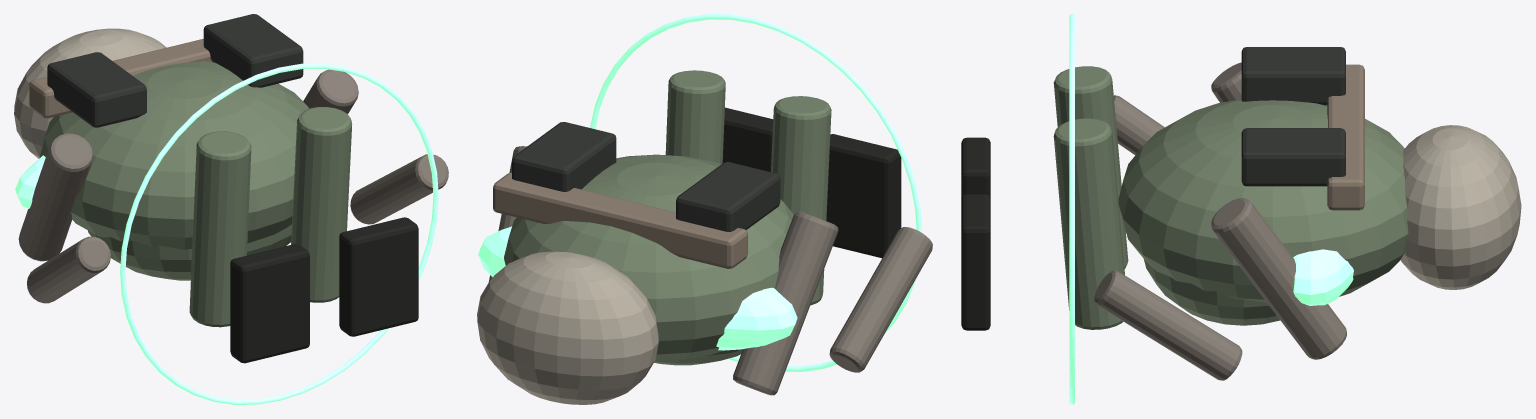
File: dz_boss_market_bloated_hoarder.glb
The picture shows the model from 3 angles, left to right: view 1: azimuth 30°, elevation 25°; view 2: azimuth 150°, elevation 25°; view 3: azimuth 270°, elevation 25°; orthographic projection. The views are drawn at different scales.
Visible parts, largest first — view 1: dz_torso_boss_market_hoarder, dz_limb_leg_l_market_hoarder, dz_limb_leg_r_market_hoarder, dz_limb_foot_r_market_hoarder, dz_limb_foot_l_market_hoarder, dz_boss_attack_cue_market_hoarder, dz_limb_arm_l_market_hoarder, dz_loot_pack_market_hoarder, dz_loot_pack_market_hoarder.001, dz_head_boss_market_hoarder, dz_limb_forearm_r_market_hoarder, dz_limb_forearm_l_market_hoarder (+4 smaller); view 2: dz_head_boss_market_hoarder, dz_torso_boss_market_hoarder, dz_silhouette_shelf_strap_market_hoarder, dz_limb_foot_l_market_hoarder, dz_limb_arm_l_market_hoarder, dz_limb_leg_l_market_hoarder, dz_limb_forearm_l_market_hoarder, dz_loot_pack_market_hoarder, dz_loot_pack_market_hoarder.001, dz_limb_leg_r_market_hoarder, dz_chest_boss_market_hoarder, dz_boss_attack_cue_market_hoarder (+2 smaller); view 3: dz_torso_boss_market_hoarder, dz_head_boss_market_hoarder, dz_limb_leg_r_market_hoarder, dz_limb_arm_r_market_hoarder, dz_limb_forearm_r_market_hoarder, dz_loot_pack_market_hoarder.001, dz_loot_pack_market_hoarder, dz_limb_foot_r_market_hoarder, dz_silhouette_shelf_strap_market_hoarder, dz_limb_leg_l_market_hoarder, dz_variant_bloated_belly_market_hoarder, dz_chest_boss_market_hoarder (+4 smaller).
Boxes of the visible parts, x1=… form: dz_torso_boss_market_hoarder: x1=39, y1=61, x2=309, y2=249; dz_limb_leg_l_market_hoarder: x1=189, y1=131, x2=251, y2=327; dz_limb_leg_r_market_hoarder: x1=291, y1=107, x2=352, y2=302; dz_limb_foot_r_market_hoarder: x1=339, y1=217, x2=418, y2=336; dz_limb_foot_l_market_hoarder: x1=230, y1=244, x2=309, y2=363; dz_boss_attack_cue_market_hoarder: x1=120, y1=63, x2=438, y2=404; dz_limb_arm_l_market_hoarder: x1=18, y1=133, x2=93, y2=261; dz_loot_pack_market_hoarder: x1=47, y1=52, x2=146, y2=127; dz_loot_pack_market_hoarder.001: x1=203, y1=14, x2=303, y2=87; dz_head_boss_market_hoarder: x1=14, y1=28, x2=166, y2=158; dz_limb_forearm_r_market_hoarder: x1=350, y1=154, x2=448, y2=224; dz_limb_forearm_l_market_hoarder: x1=27, y1=236, x2=110, y2=303; dz_head_boss_market_hoarder: x1=477, y1=251, x2=658, y2=404; dz_torso_boss_market_hoarder: x1=504, y1=154, x2=793, y2=361; dz_silhouette_shelf_strap_market_hoarder: x1=493, y1=172, x2=747, y2=268; dz_limb_foot_l_market_hoarder: x1=826, y1=134, x2=901, y2=257; dz_limb_arm_l_market_hoarder: x1=733, y1=212, x2=838, y2=395; dz_limb_leg_l_market_hoarder: x1=771, y1=96, x2=831, y2=305; dz_limb_forearm_l_market_hoarder: x1=829, y1=227, x2=932, y2=372; dz_loot_pack_market_hoarder: x1=676, y1=162, x2=780, y2=231; dz_loot_pack_market_hoarder.001: x1=512, y1=122, x2=616, y2=191; dz_limb_leg_r_market_hoarder: x1=665, y1=70, x2=725, y2=164; dz_chest_boss_market_hoarder: x1=478, y1=226, x2=797, y2=350; dz_boss_attack_cue_market_hoarder: x1=590, y1=14, x2=922, y2=371; dz_torso_boss_market_hoarder: x1=1118, y1=99, x2=1408, y2=302; dz_head_boss_market_hoarder: x1=1400, y1=125, x2=1521, y2=289; dz_limb_leg_r_market_hoarder: x1=1053, y1=118, x2=1124, y2=329; dz_limb_arm_r_market_hoarder: x1=1211, y1=198, x2=1346, y2=359; dz_limb_forearm_r_market_hoarder: x1=1094, y1=271, x2=1242, y2=380; dz_loot_pack_market_hoarder.001: x1=1241, y1=128, x2=1345, y2=186; dz_loot_pack_market_hoarder: x1=1241, y1=47, x2=1345, y2=105; dz_limb_foot_r_market_hoarder: x1=961, y1=194, x2=990, y2=330; dz_silhouette_shelf_strap_market_hoarder: x1=1327, y1=64, x2=1364, y2=210; dz_limb_leg_l_market_hoarder: x1=1053, y1=66, x2=1128, y2=268; dz_variant_bloated_belly_market_hoarder: x1=1144, y1=259, x2=1280, y2=325; dz_chest_boss_market_hoarder: x1=1293, y1=249, x2=1353, y2=305.
Bounding box in the file's own units: 2.18 × 1.87 × 2.68.
